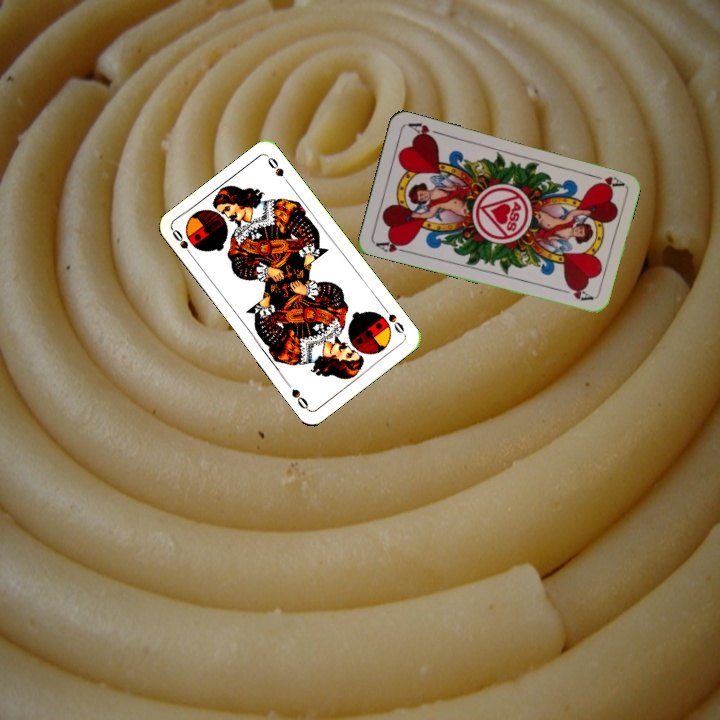HA: (372, 235, 412, 256), (585, 170, 626, 190)
SO: (379, 302, 408, 338), (168, 225, 197, 261)
